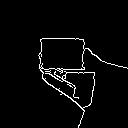cube: (36, 34, 90, 73)
